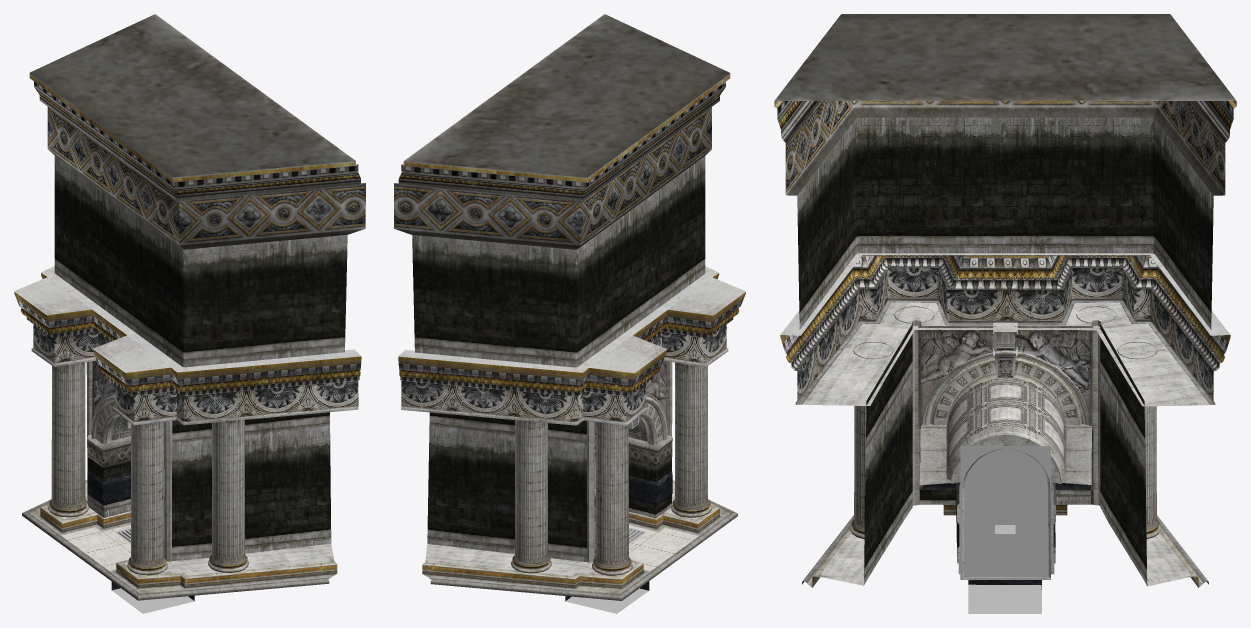
File: KnightCastle_LibraryFireplace.FBX
3 views of the same model, side by side, from view 1: azimuth 30°, elevation 25°; view 2: azimuth 150°, elevation 25°; view 3: azimuth 270°, elevation 25° (orthographic). The views are drawn at different scales.
Parts seen in each view (by area): view 1: SM_KnightCastle_LibraryFireplace; view 2: SM_KnightCastle_LibraryFireplace; view 3: SM_KnightCastle_LibraryFireplace.
Part boxes in pixels (x1,y1,x2,y2): SM_KnightCastle_LibraryFireplace: (14, 14, 365, 613); SM_KnightCastle_LibraryFireplace: (394, 14, 745, 613); SM_KnightCastle_LibraryFireplace: (774, 14, 1236, 613).
Size of what is drawn, in the model's own units: 534 by 923 by 1224.
